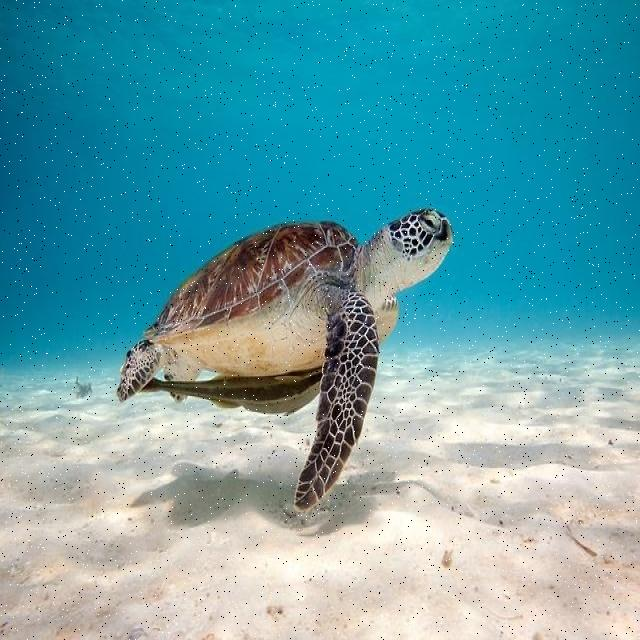fish: (114, 204, 454, 514)
